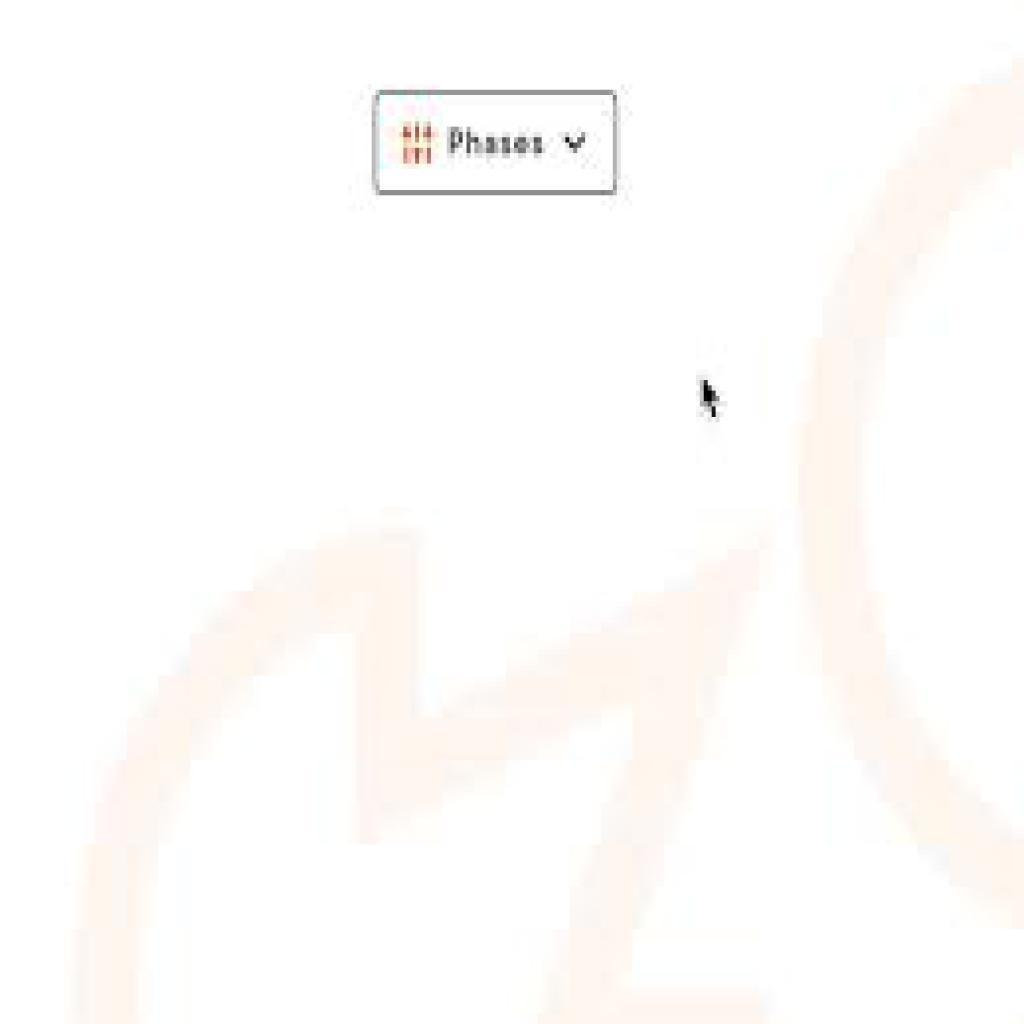dropdown: (377, 93, 615, 195)
